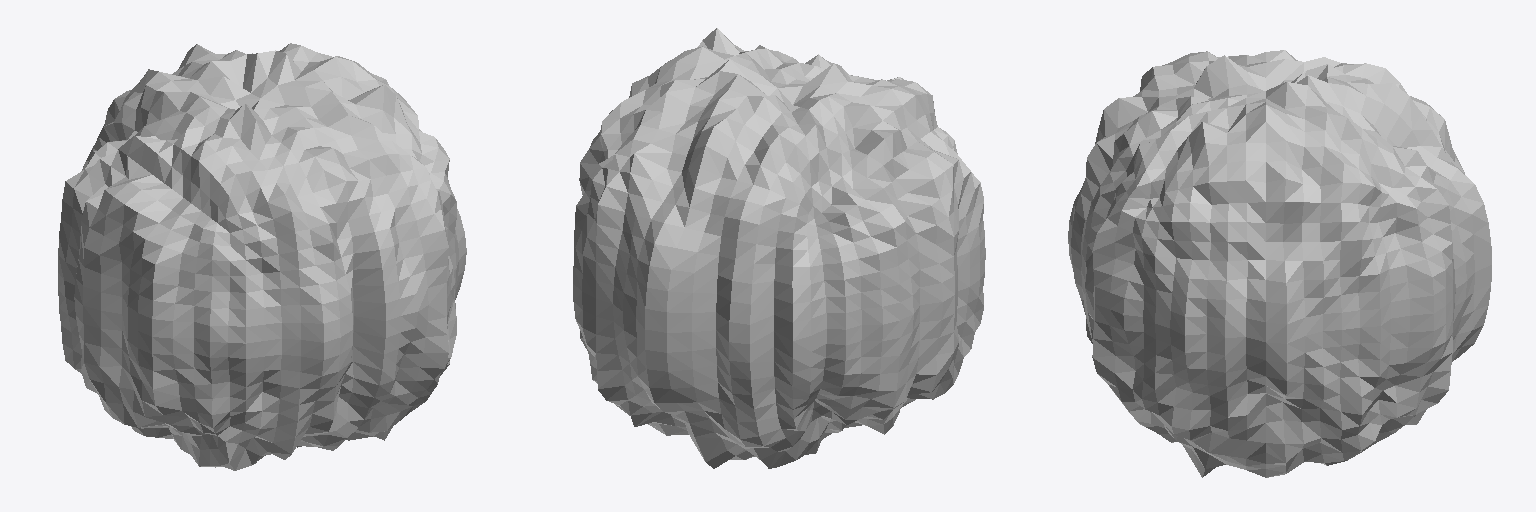
Rendered from asteroid127.obj.
3 views of the same model, side by side, from view 1: azimuth 30°, elevation 25°; view 2: azimuth 150°, elevation 25°; view 3: azimuth 270°, elevation 25° (orthographic).
Parts seen in each view (by area): view 1: Cube_Cube.002; view 2: Cube_Cube.002; view 3: Cube_Cube.002.
Boxes of the visible parts, x1=… form: Cube_Cube.002: x1=58, y1=43, x2=466, y2=470; Cube_Cube.002: x1=573, y1=28, x2=985, y2=468; Cube_Cube.002: x1=1068, y1=50, x2=1491, y2=477.
Bounding box in the file's own units: 1.76 × 1.78 × 1.79.